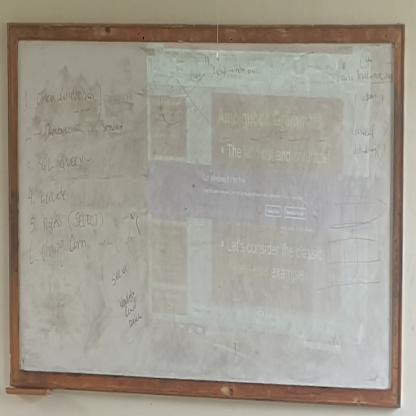Handwritten text: (100, 251, 152, 339), (33, 229, 95, 273), (34, 80, 98, 118), (34, 143, 90, 179), (39, 114, 76, 145), (36, 177, 67, 206), (72, 206, 101, 233), (38, 206, 64, 235)
Whiteboard: (13, 36, 396, 396)
